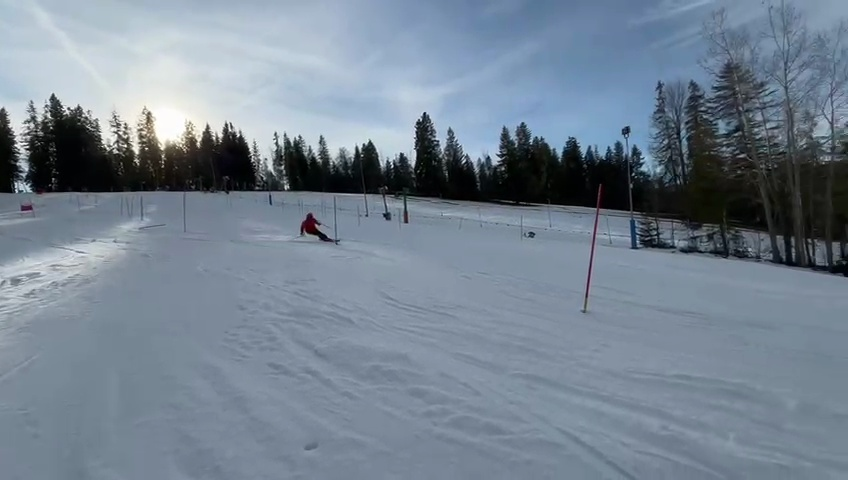gate: (577, 179, 609, 321), (329, 193, 342, 247), (134, 218, 170, 233), (178, 190, 189, 235), (362, 181, 371, 218), (403, 195, 413, 228), (137, 195, 146, 219), (116, 195, 125, 218), (266, 191, 273, 206)
